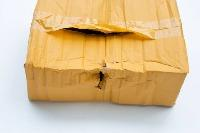damaged package: (57, 24, 142, 40), (91, 59, 125, 93)
undamaged: (21, 0, 189, 109)
